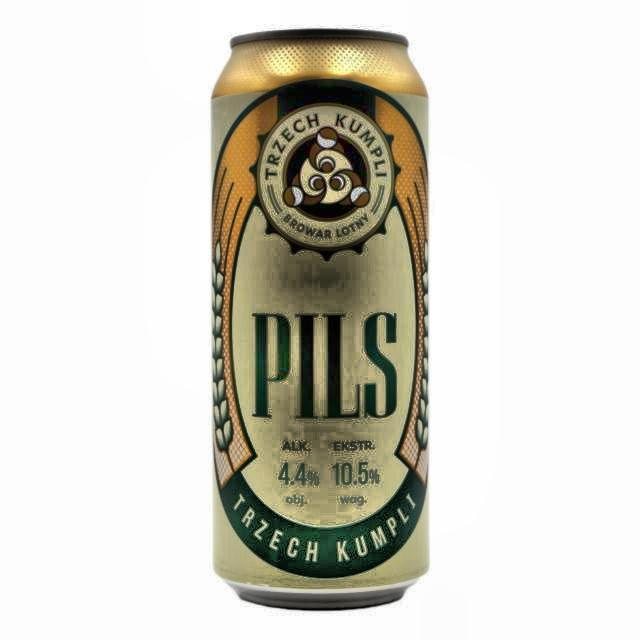can: (201, 21, 443, 624)
